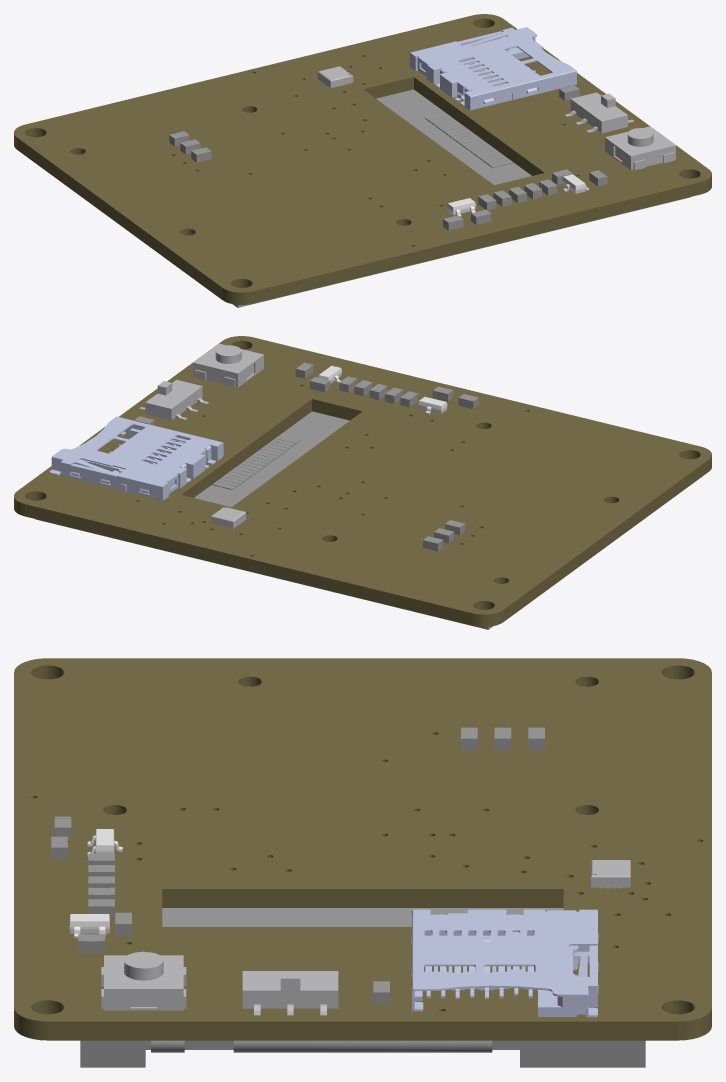
File: ada-3315.glb
The picture shows the model from 3 angles, top to bottom: view 1: azimuth 30°, elevation 25°; view 2: azimuth 150°, elevation 25°; view 3: azimuth 270°, elevation 25°; orthographic projection. The views are drawn at different scales.
Visible parts, largest first — view 1: 0.16666666666666666_0.16666666666666666_0.08333333333333333_, 0.5833333333333334_0.6666666666666666_0.8333333333333334_0, 0.3333333333333333_0.3333333333333333_0.3333333333333333_0, 0.5833333333333334_0.5833333333333334_0.5833333333333334_0.8, 0.9166666666666666_0.9166666666666666_0.9166666666666666_0.8; view 2: 0.16666666666666666_0.16666666666666666_0.08333333333333333_, 0.5833333333333334_0.6666666666666666_0.8333333333333334_0, 0.3333333333333333_0.3333333333333333_0.3333333333333333_0, 0.5833333333333334_0.5833333333333334_0.5833333333333334_0.8, 0.9166666666666666_0.9166666666666666_0.9166666666666666_0.8; view 3: 0.16666666666666666_0.16666666666666666_0.08333333333333333_, 0.3333333333333333_0.3333333333333333_0.3333333333333333_0, 0.5833333333333334_0.6666666666666666_0.8333333333333334_0, 0.5833333333333334_0.5833333333333334_0.5833333333333334_0.8, 0.9166666666666666_0.9166666666666666_0.9166666666666666_0.8.
Boxes of the visible parts, <box> form: 0.16666666666666666_0.16666666666666666_0.08333333333333333_: <box>14,14,711,304</box>; 0.5833333333333334_0.6666666666666666_0.8333333333333334_0: <box>409,27,576,110</box>; 0.3333333333333333_0.3333333333333333_0.3333333333333333_0: <box>169,85,690,307</box>; 0.5833333333333334_0.5833333333333334_0.5833333333333334_0.8: <box>317,66,675,170</box>; 0.9166666666666666_0.9166666666666666_0.9166666666666666_0.8: <box>447,174,588,216</box>; 0.16666666666666666_0.16666666666666666_0.08333333333333333_: <box>14,336,711,626</box>; 0.5833333333333334_0.6666666666666666_0.8333333333333334_0: <box>49,416,223,500</box>; 0.3333333333333333_0.3333333333333333_0.3333333333333333_0: <box>35,362,492,629</box>; 0.5833333333333334_0.5833333333333334_0.5833333333333334_0.8: <box>139,343,263,528</box>; 0.9166666666666666_0.9166666666666666_0.9166666666666666_0.8: <box>318,365,447,414</box>; 0.16666666666666666_0.16666666666666666_0.08333333333333333_: <box>14,658,711,1040</box>; 0.3333333333333333_0.3333333333333333_0.3333333333333333_0: <box>51,727,645,1067</box>; 0.5833333333333334_0.6666666666666666_0.8333333333333334_0: <box>411,909,598,1017</box>; 0.5833333333333334_0.5833333333333334_0.5833333333333334_0.8: <box>101,860,630,1015</box>; 0.9166666666666666_0.9166666666666666_0.9166666666666666_0.8: <box>69,829,122,938</box>.
Size of the model in its own units: 6.48 by 0.7115 by 5.26.
